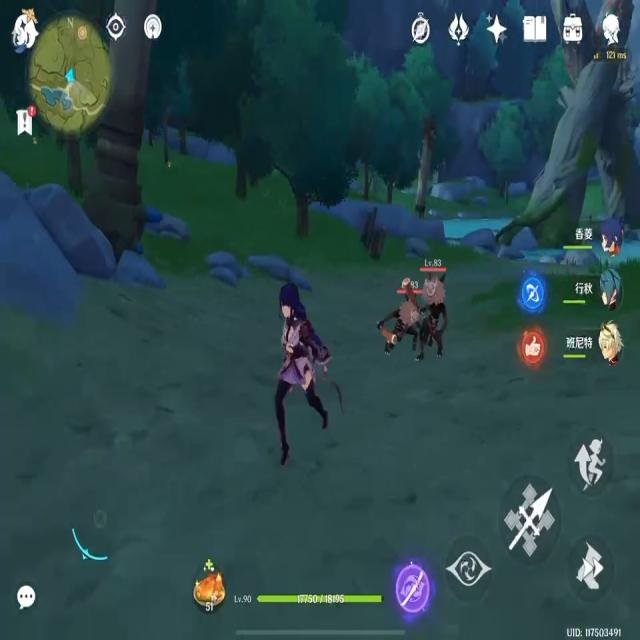genshin-hilichurls: (423, 271, 451, 359)
